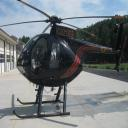helicopter: (2, 1, 128, 121)
